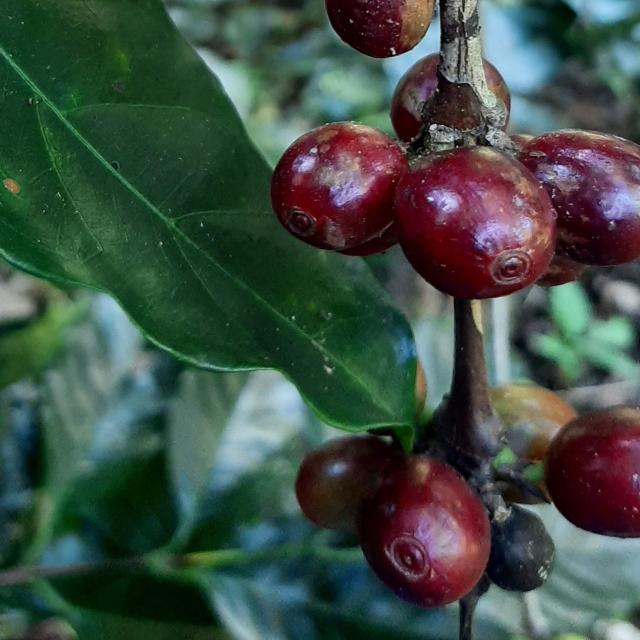Overripe: (488, 505, 556, 593)
Ripe: (395, 146, 557, 300), (358, 456, 491, 609), (271, 121, 409, 251), (520, 129, 640, 265), (546, 407, 640, 538), (296, 436, 403, 533), (391, 52, 440, 141), (483, 58, 512, 113)
Unripe: (491, 385, 578, 461), (325, 0, 435, 57)
